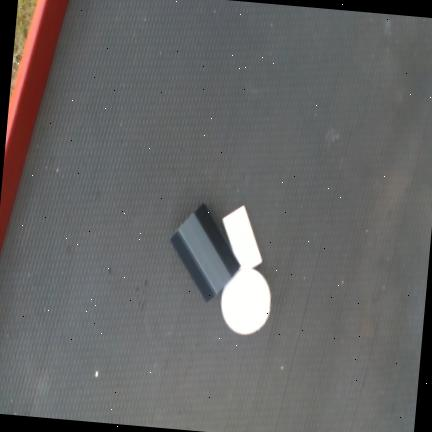Esfera: (220, 268, 271, 335)
Paralelepipedo: (221, 205, 263, 269)
Prisma_hexagonal: (170, 203, 241, 303)
